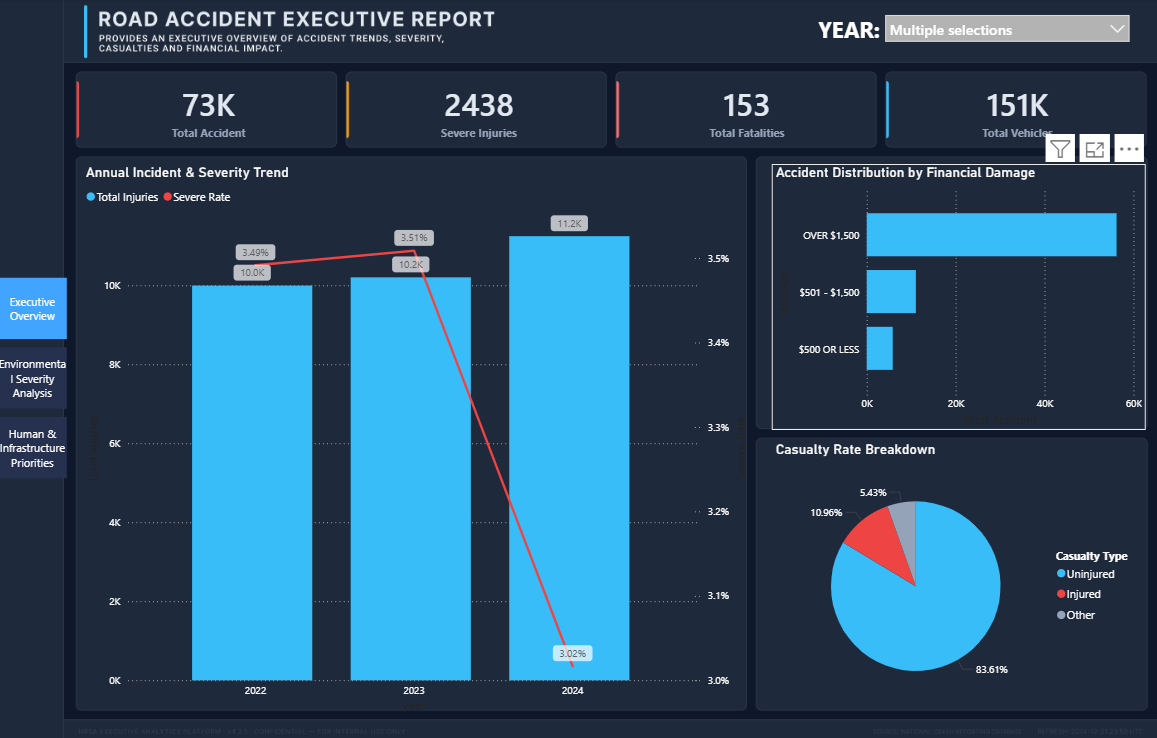

What the dashboard file says about the page in this screenshot:
{"tool":"powerbi","page":{"name":"Report 1","canvas":[1500,1500],"ordinal":0},"visuals":[{"type":"textbox","box":[9.6,0,279.9,41.2],"z":0},{"type":"textbox","box":[193.3,20,1113.3,120],"z":1000},{"type":"shape","box":[35,175,631.7,296.7],"z":2000},{"type":"cardVisual","fields":{"Data":["Sum(Query1.Injury Total)"]},"box":[55.1,254.9,198.3,126.7],"z":3000},{"type":"cardVisual","fields":{"Data":["Sum(Query1.Num units)"]},"box":[253.4,254.9,193.3,126.7],"z":4000},{"type":"lineStackedColumnComboChart","title":"Biểu đồ phân tích số vụ tai nạn và số phương tiện trong từng năm","fields":{"Category":["Query1.year"],"Y":["Sum(Query1.Injury Total)"],"Y2":["Sum(Query1.Num units)"]},"box":[721.7,175,728.3,296.7],"z":5000},{"type":"pieChart","title":"Biểu đồ thống kê số vụ tai nạn theo vụ va chạm tổng thể","fields":{"Y":["Sum(Query1.Number of Accident)"],"Category":["Query1.Crash Type"]},"box":[36.7,565,631.7,368.3],"z":6000},{"type":"clusteredBarChart","title":"Biểu đồ phân tích số vụ tai nạn và phương tiện theo các mức độ thiệt hại","fields":{"Category":["Query1.Damage Extension"],"Y":["Sum(Query1.Number of Accident)","Sum(Query1.Num units)"]},"box":[721.7,565,728.3,368.3],"z":7000},{"type":"pivotTable","title":"Bảng phân tích các vụ va chạm trong từng năm","fields":{"Rows":["Query1.year"],"Columns":["Query1.First Crash Type"],"Values":["Sum(Query1.Injury Total)","Sum(Query1.Number of Accident)"]},"box":[43.3,996.7,1413.3,468.3],"z":8000},{"type":"cardVisual","fields":{"Data":["Sum(Query1.Number of Accident)"]},"box":[446.8,254.9,193.3,126.7],"z":9000}]}

Visuals, with their boxes on the page's 1500x1500 design canvas (x1, y1, x2, y2). These are canvas units, not pixel positions in the 1157x738 screenshot, which may show the page scaled, cropped or inside an application window:
textbox: [x1=10, y1=0, x2=290, y2=41]
textbox: [x1=193, y1=20, x2=1307, y2=140]
shape: [x1=35, y1=175, x2=667, y2=472]
cardVisual - Sum(Query1.Injury Total): [x1=55, y1=255, x2=253, y2=382]
cardVisual - Sum(Query1.Num units): [x1=253, y1=255, x2=447, y2=382]
"Biểu đồ phân tích số vụ tai nạn và số phương tiện trong từng năm" lineStackedColumnComboChart: [x1=722, y1=175, x2=1450, y2=472]
"Biểu đồ thống kê số vụ tai nạn theo vụ va chạm tổng thể" pieChart: [x1=37, y1=565, x2=668, y2=933]
"Biểu đồ phân tích số vụ tai nạn và phương tiện theo các mức độ thiệt hại" clusteredBarChart: [x1=722, y1=565, x2=1450, y2=933]
"Bảng phân tích các vụ va chạm trong từng năm" pivotTable: [x1=43, y1=997, x2=1457, y2=1465]
cardVisual - Sum(Query1.Number of Accident): [x1=447, y1=255, x2=640, y2=382]
